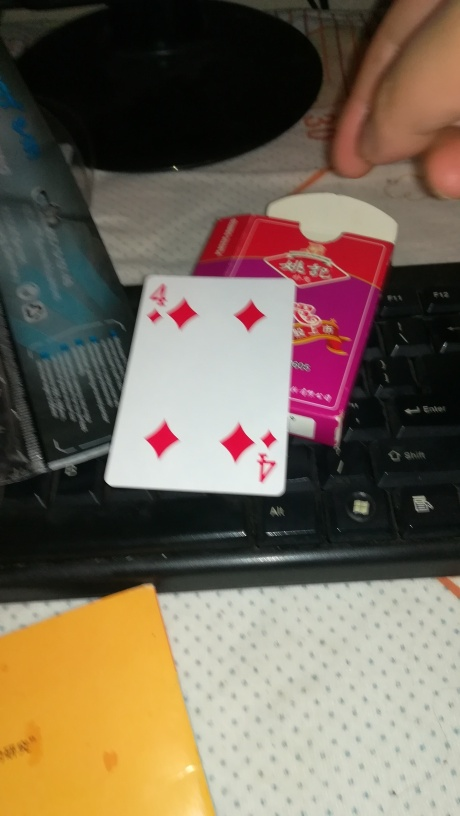fk 4: (103, 269, 296, 501)
